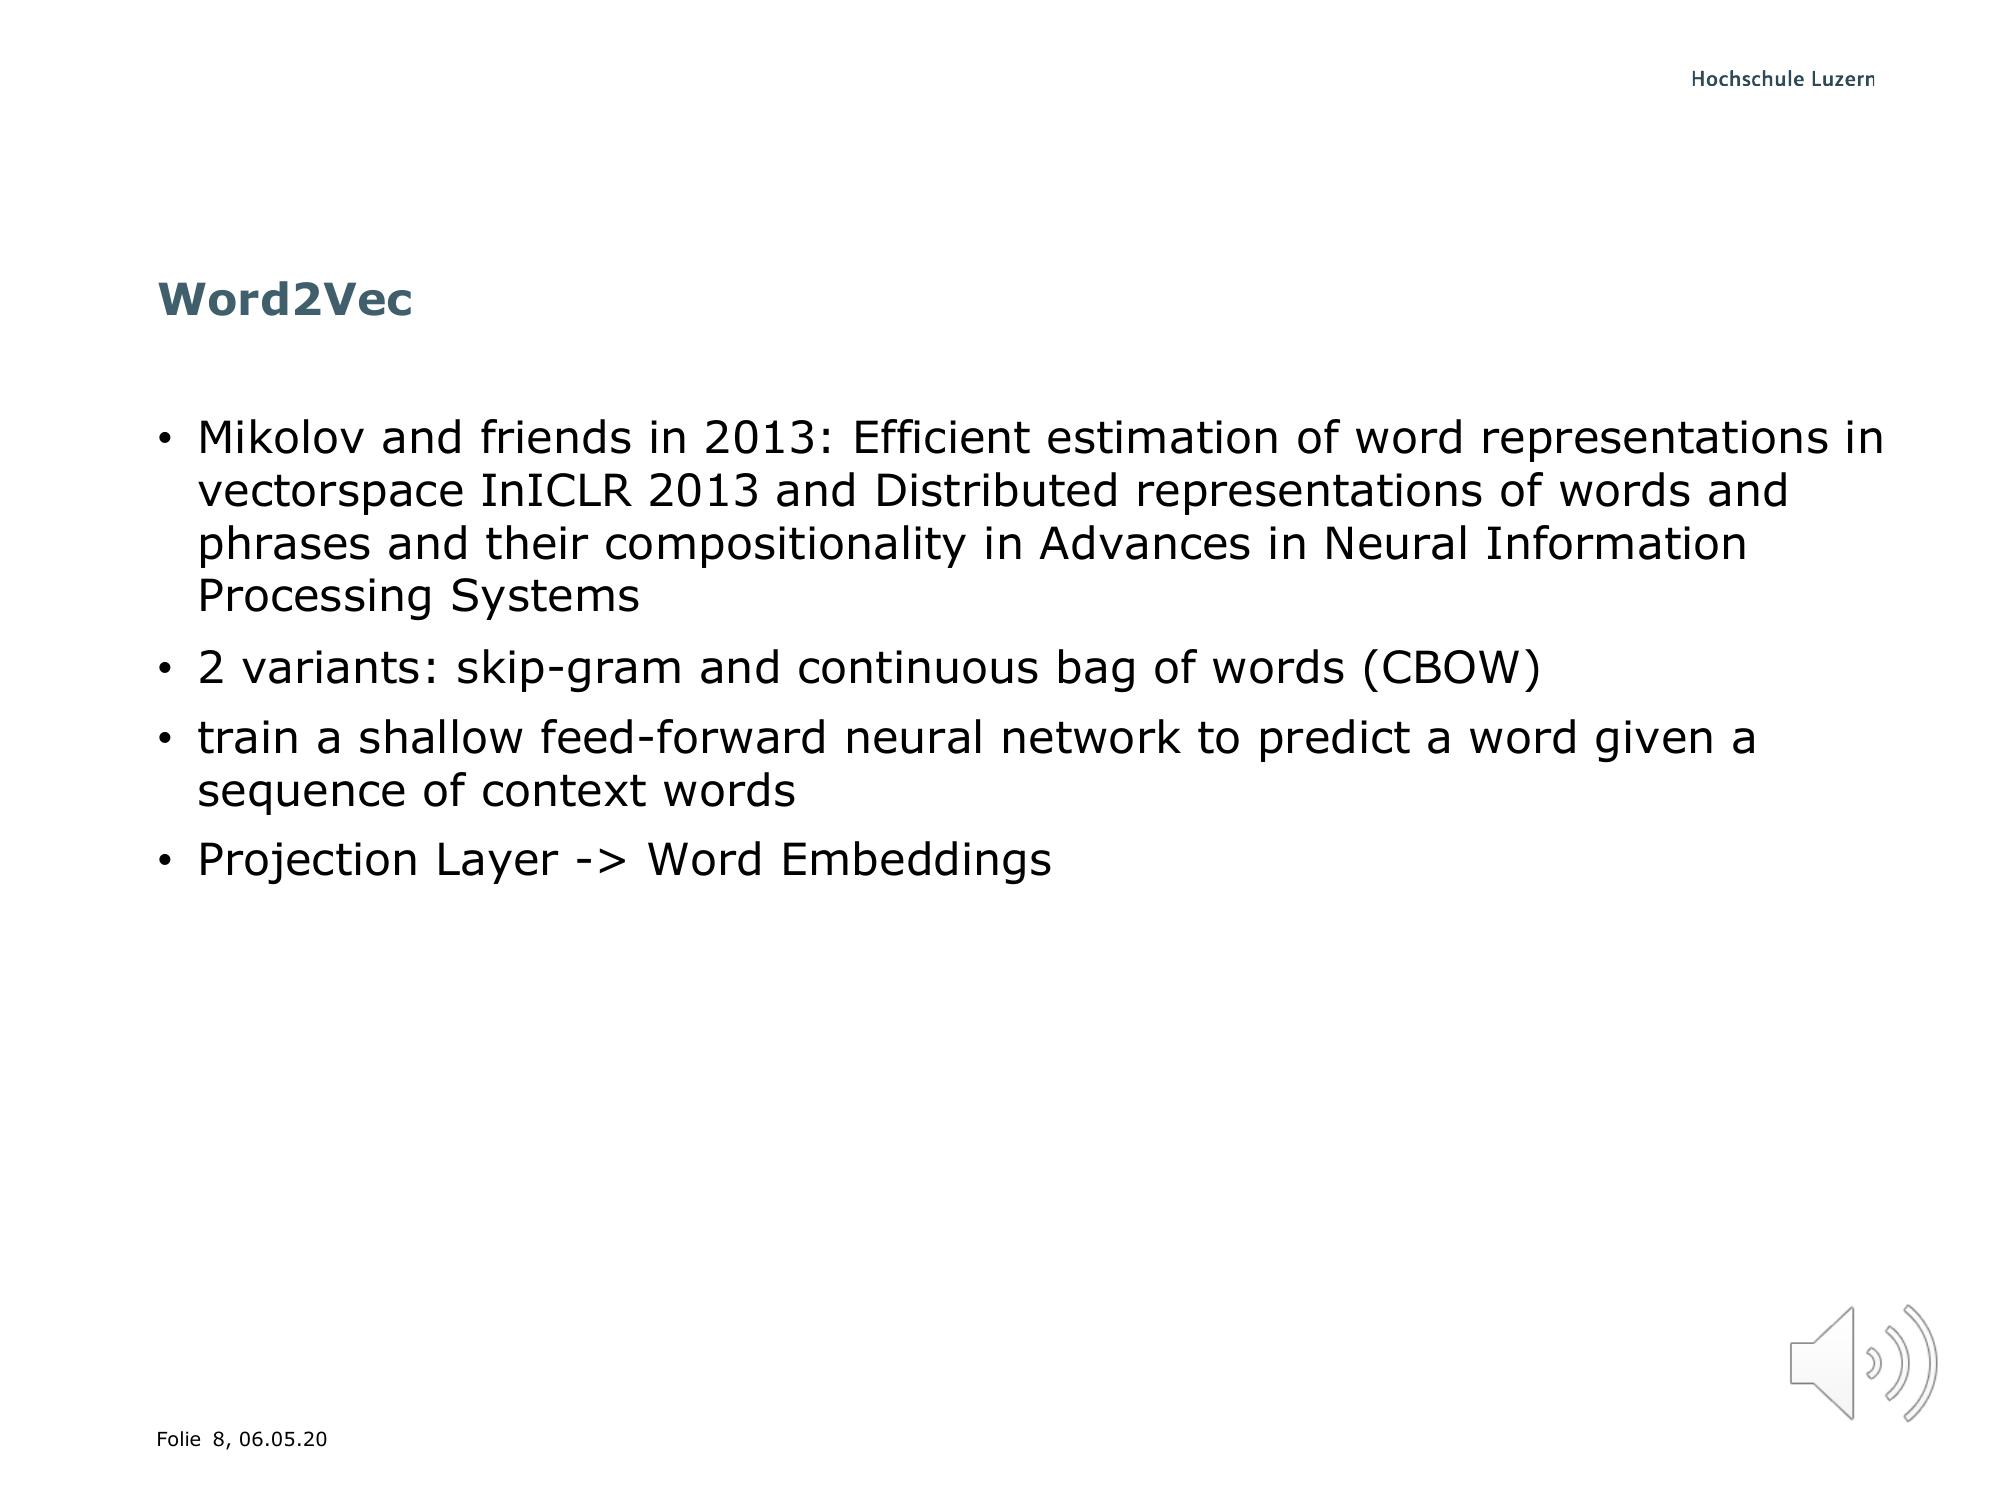Title: (146, 266, 428, 334)
